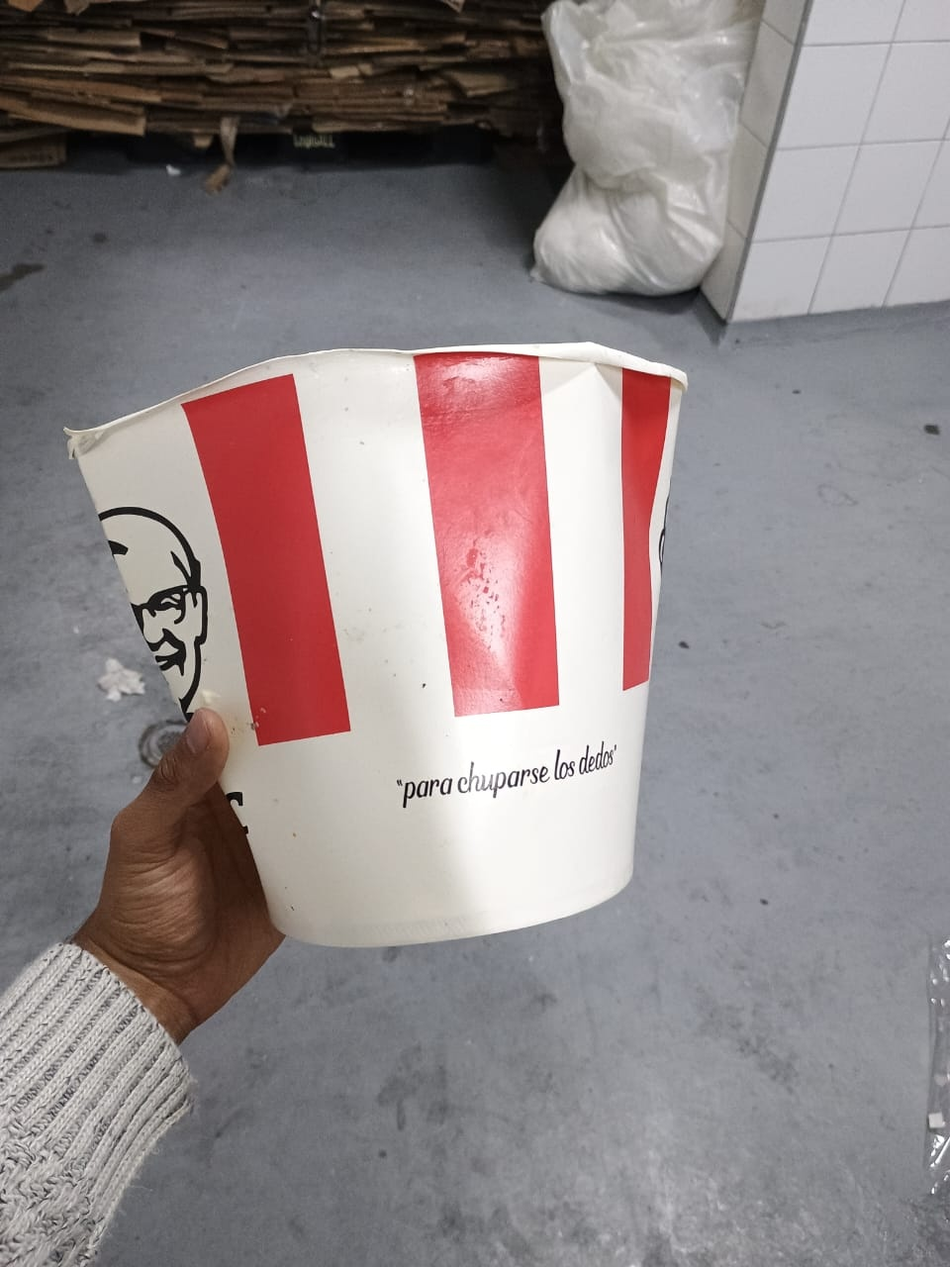Carton: (71, 345, 693, 951)
